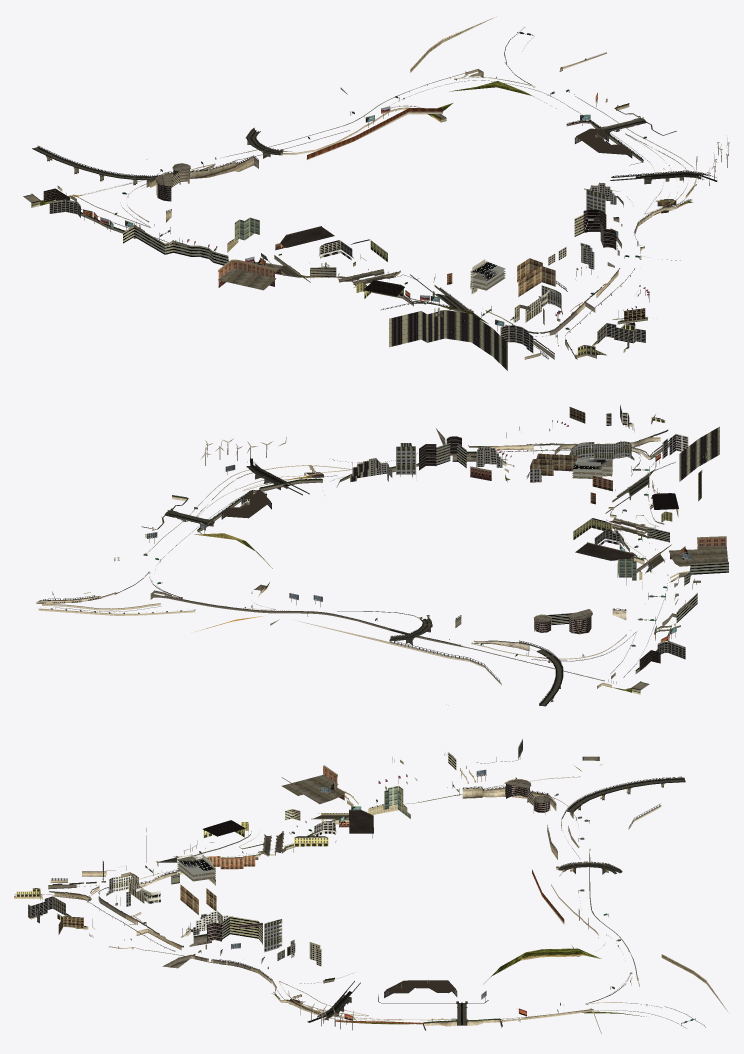
Rendered from track-B2_C5_V2.glb.
3 renders of one model, top to bottom at view 1: azimuth 30°, elevation 25°; view 2: azimuth 150°, elevation 25°; view 3: azimuth 270°, elevation 25°, orthographic. The views are drawn at different scales.
Visible parts, largest first — view 1: B2_C5_V2; view 2: B2_C5_V2; view 3: B2_C5_V2.
Boxes of the visible parts, x1,y1,x2,y2 form: B2_C5_V2: [23, 16, 729, 370]; B2_C5_V2: [36, 405, 728, 706]; B2_C5_V2: [14, 739, 728, 1033].
Bounding box in the file's own units: 1795 × 163 × 1874.
89 materials, 88 textured.
